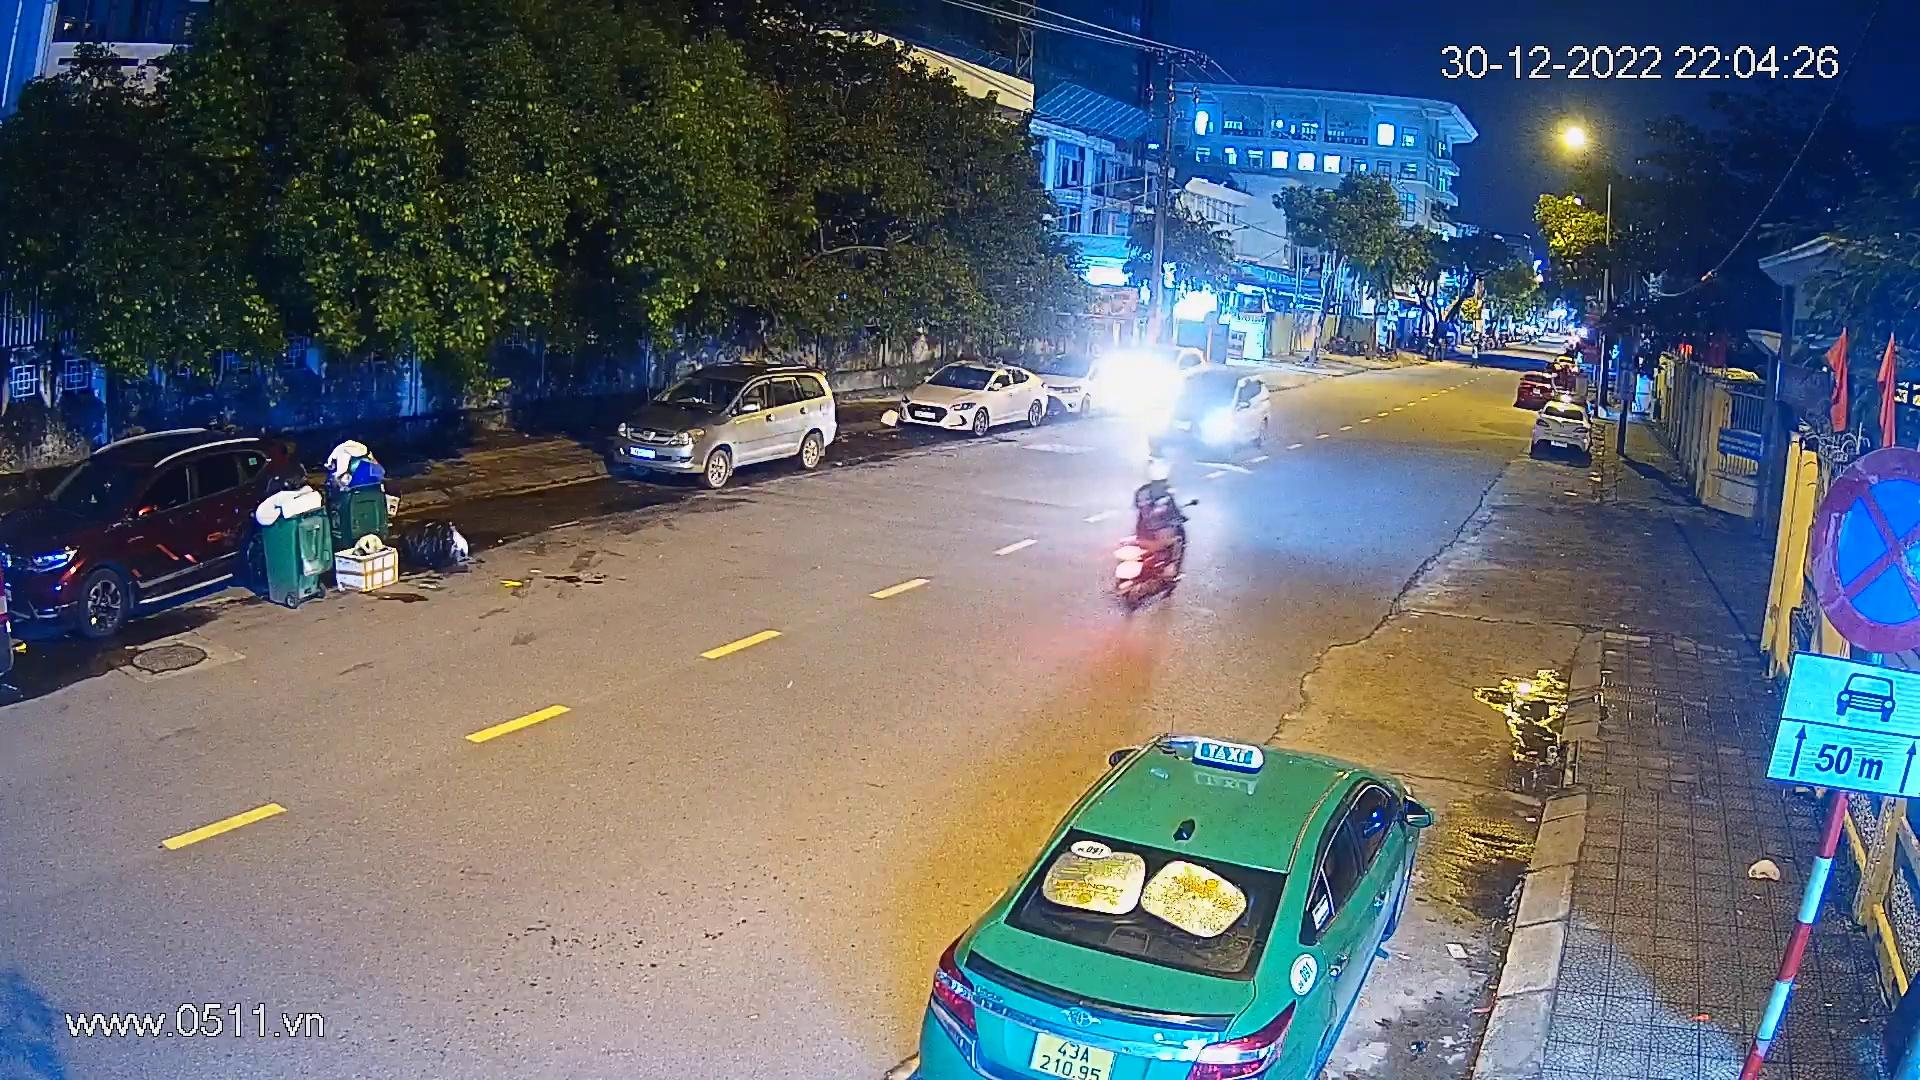car: (920, 723, 1419, 1080), (0, 414, 343, 646), (611, 360, 843, 487), (893, 348, 1050, 434), (1138, 367, 1274, 454), (1117, 336, 1221, 410), (1039, 355, 1135, 418), (1526, 392, 1592, 462), (1510, 364, 1561, 410)
motorcycle: (1112, 460, 1188, 616)
